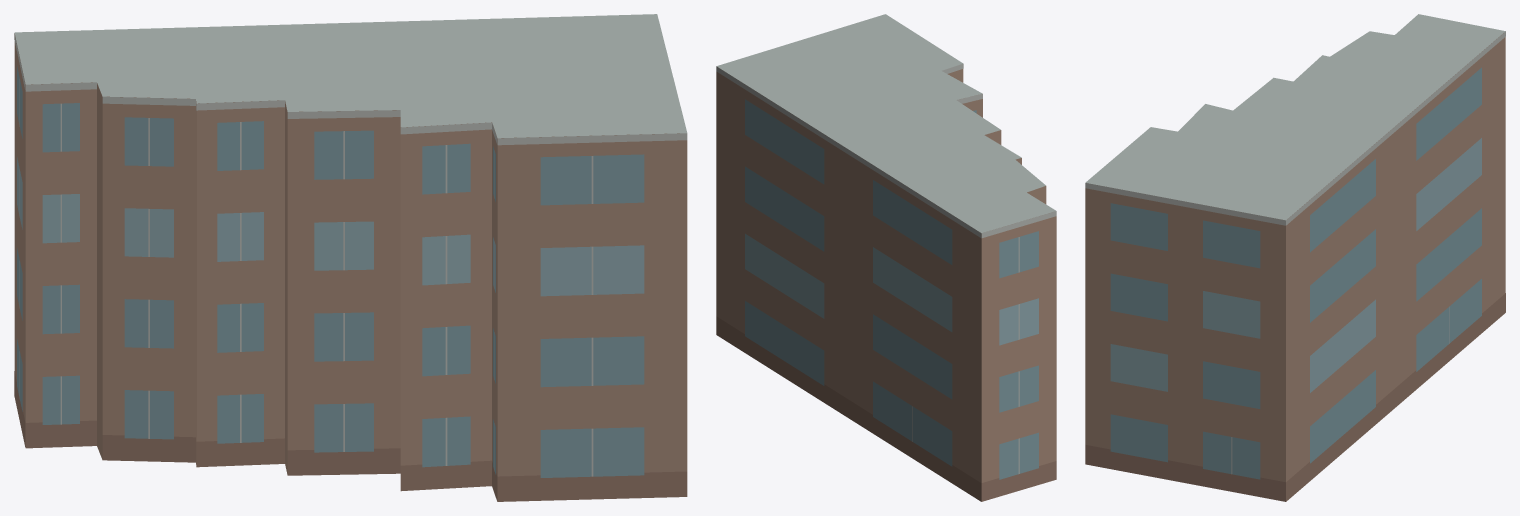
Rendered from survey-upis-32538200.glb.
3 renders of one model, left to right at view 1: azimuth 30°, elevation 25°; view 2: azimuth 150°, elevation 25°; view 3: azimuth 270°, elevation 25°, orthographic. The views are drawn at different scales.
Parts seen in each view (by area): view 1: survey-upis-32538200.tmp; view 2: survey-upis-32538200.tmp; view 3: survey-upis-32538200.tmp.
Part boxes in pixels (x1,y1,x2,y2): survey-upis-32538200.tmp: (14, 14, 687, 501); survey-upis-32538200.tmp: (716, 14, 1056, 501); survey-upis-32538200.tmp: (1085, 14, 1505, 501).
Size of the model in its own units: 19.81 by 12.6 by 17.06.
